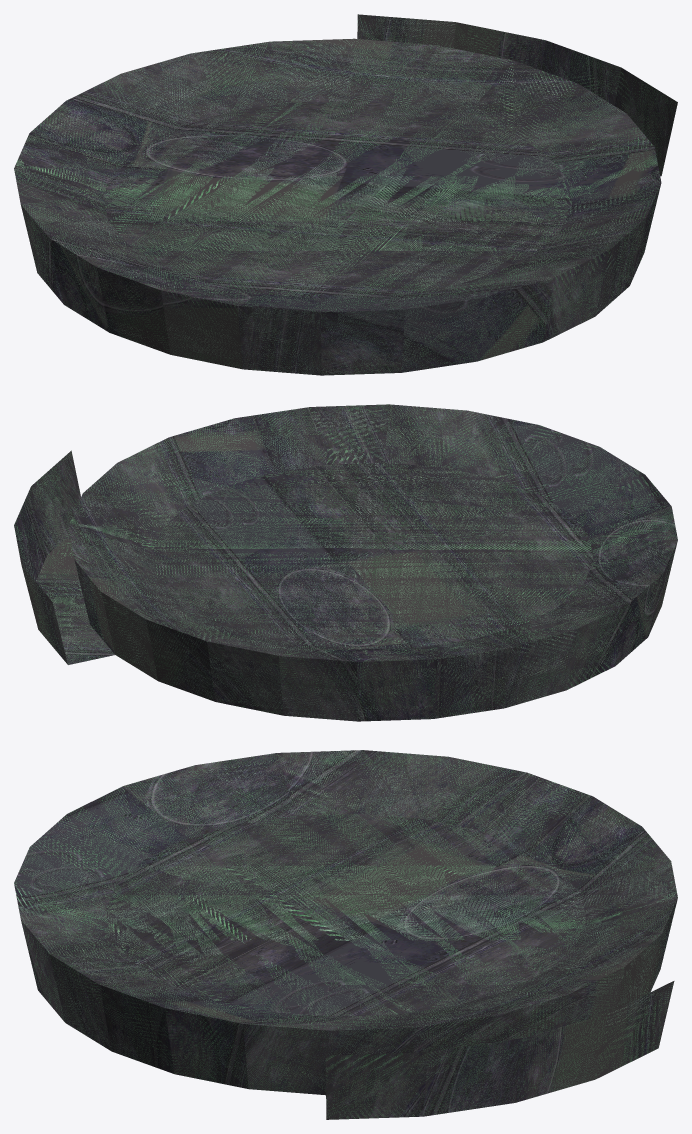
The model's file is original-3.obj.
3 renders of one model, top to bottom at view 1: azimuth 30°, elevation 25°; view 2: azimuth 150°, elevation 25°; view 3: azimuth 270°, elevation 25°, orthographic. The views are drawn at different scales.
Parts seen in each view (by area): view 1: #ID17; view 2: #ID17; view 3: #ID17.
Part boxes in pixels (box(x1,y1,x2,y2)): #ID17: box(14, 14, 677, 375); #ID17: box(14, 404, 677, 721); #ID17: box(14, 750, 677, 1119).
Size of the model in its own units: 0.6958 by 0.0766 by 0.6389.
